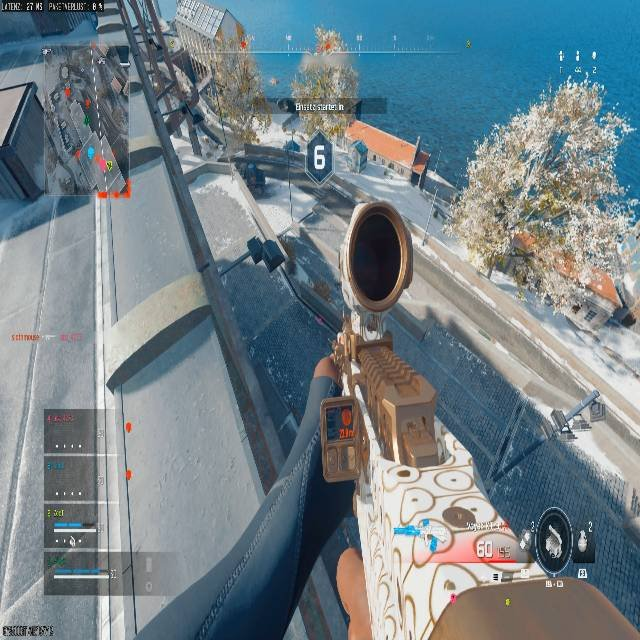head: (313, 25, 341, 56)
player: (284, 25, 361, 174)
